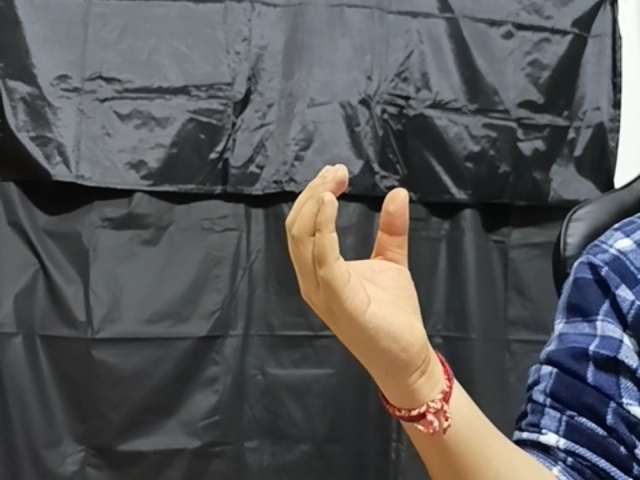C: (280, 162, 449, 364)
